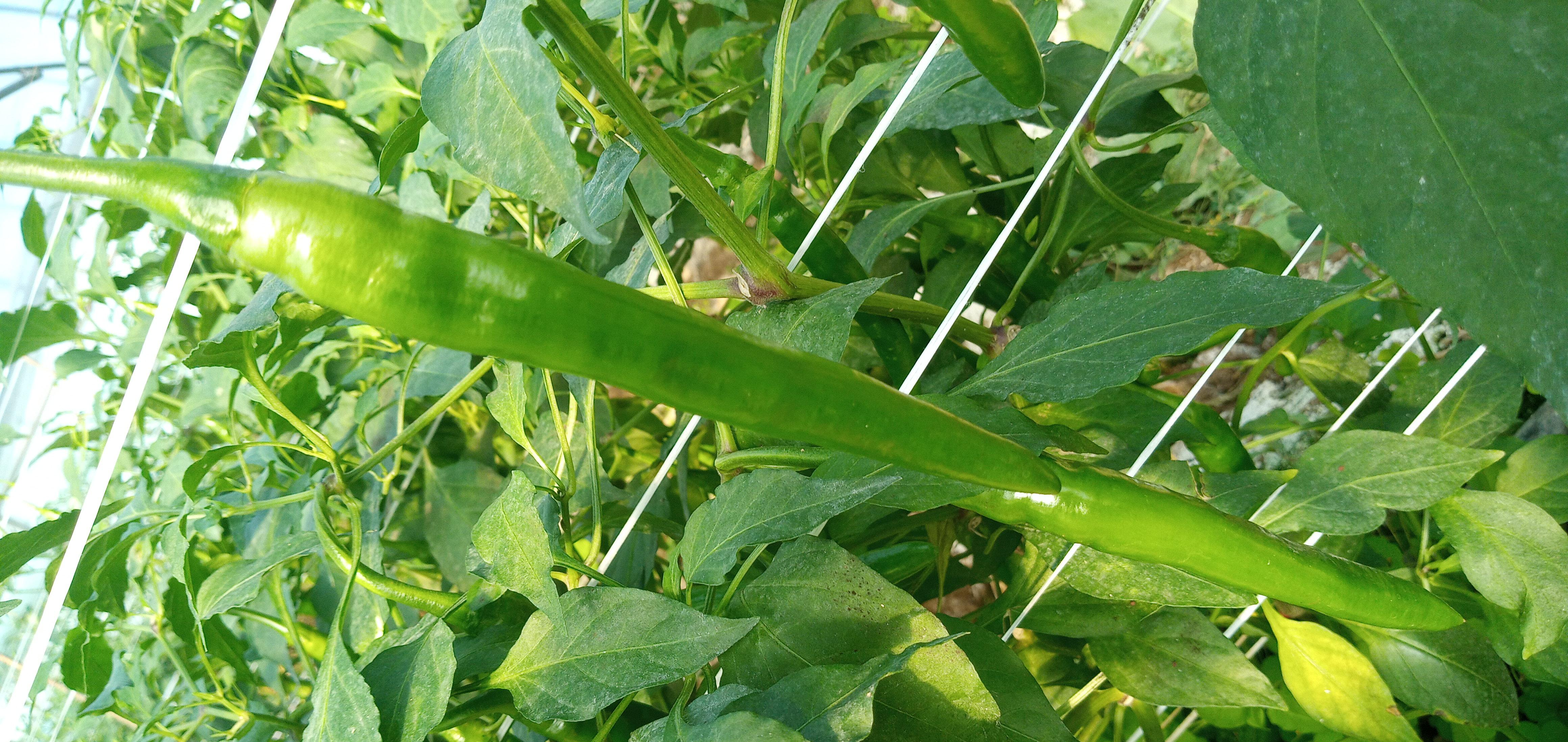Buah Cabai Sehat: (142, 158, 1067, 504)
Daun Cabai Sehat: (1186, 0, 1568, 429), (987, 262, 1344, 424)
